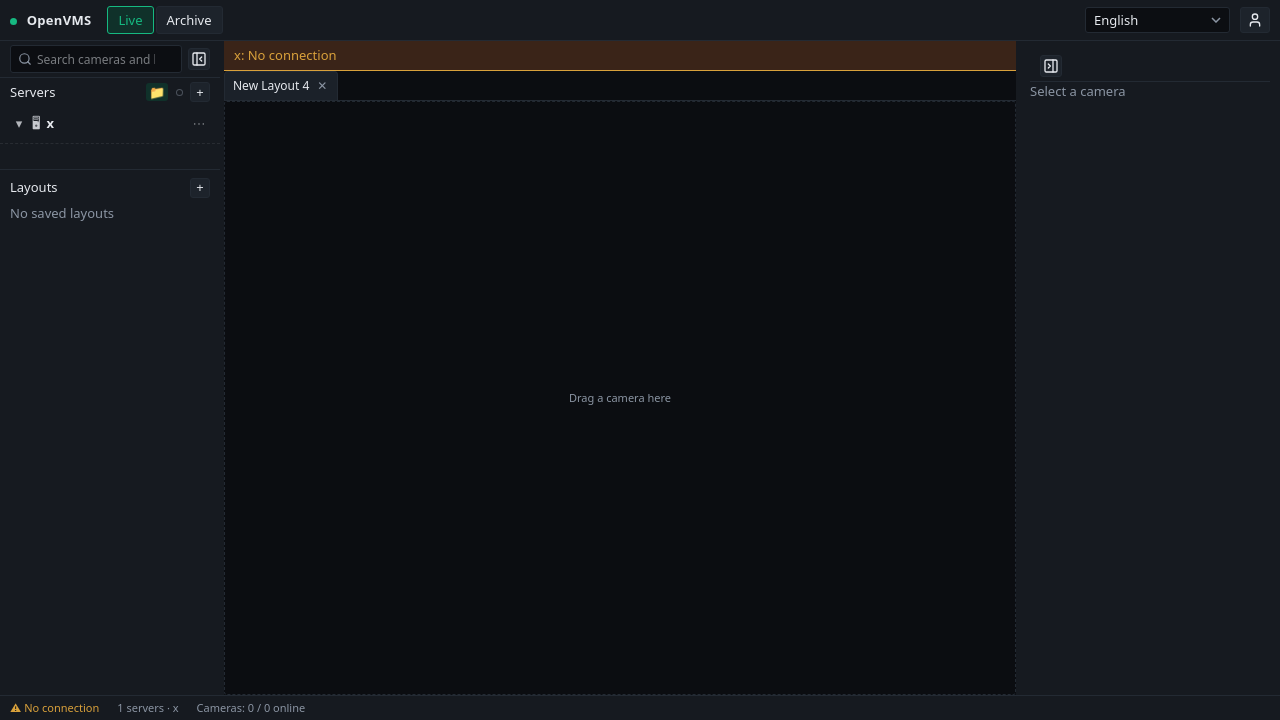
Test: exports in the right panel (spec 2026-10-17) › on the Archive tab the list sits INSIDE the right panel; on Live it does not exist
The image size is (1280, 720).
Step 1. Click the button "Archive" → point(189, 20), box [156,6,223,34]
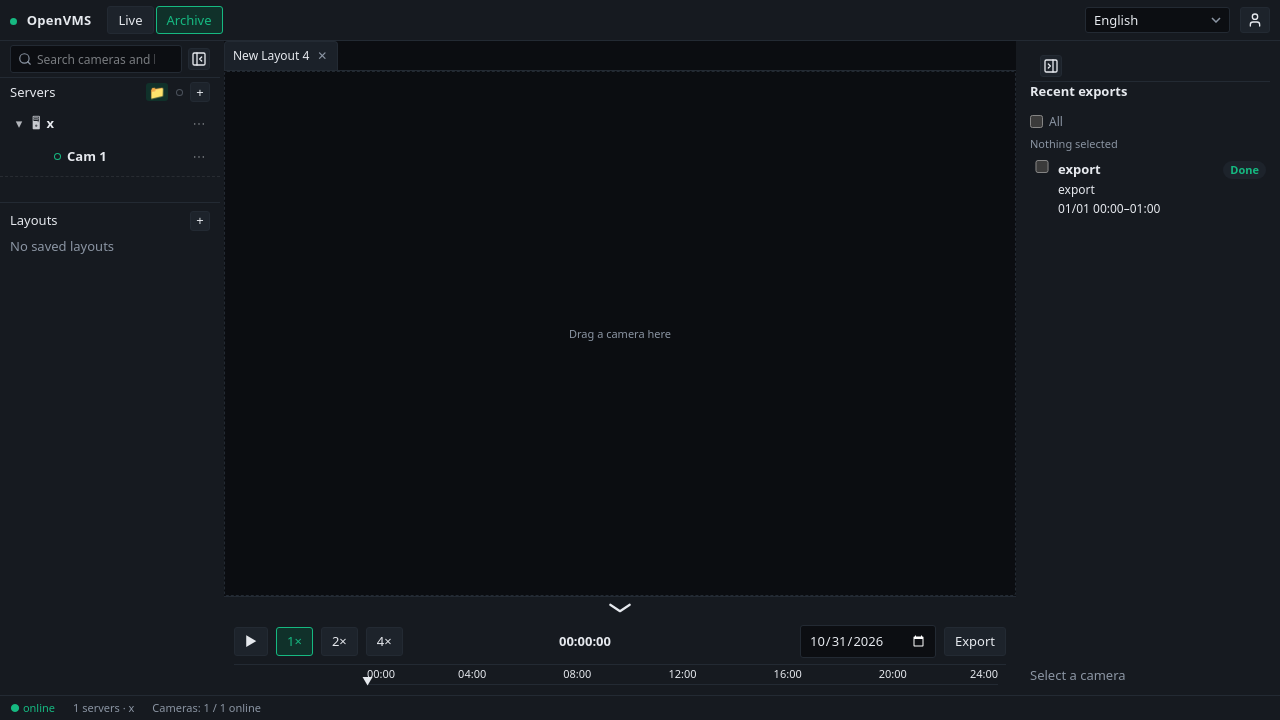
expect the element that starts with "Recent exports" is shown: met, box [1030,82,1266,217]
expect the heading "Recent exports" is shown: met, box [1030,82,1127,100]
expect the number of checkboxes is 2: met, box [1030,115,1043,128]; [1034,160,1050,173]
